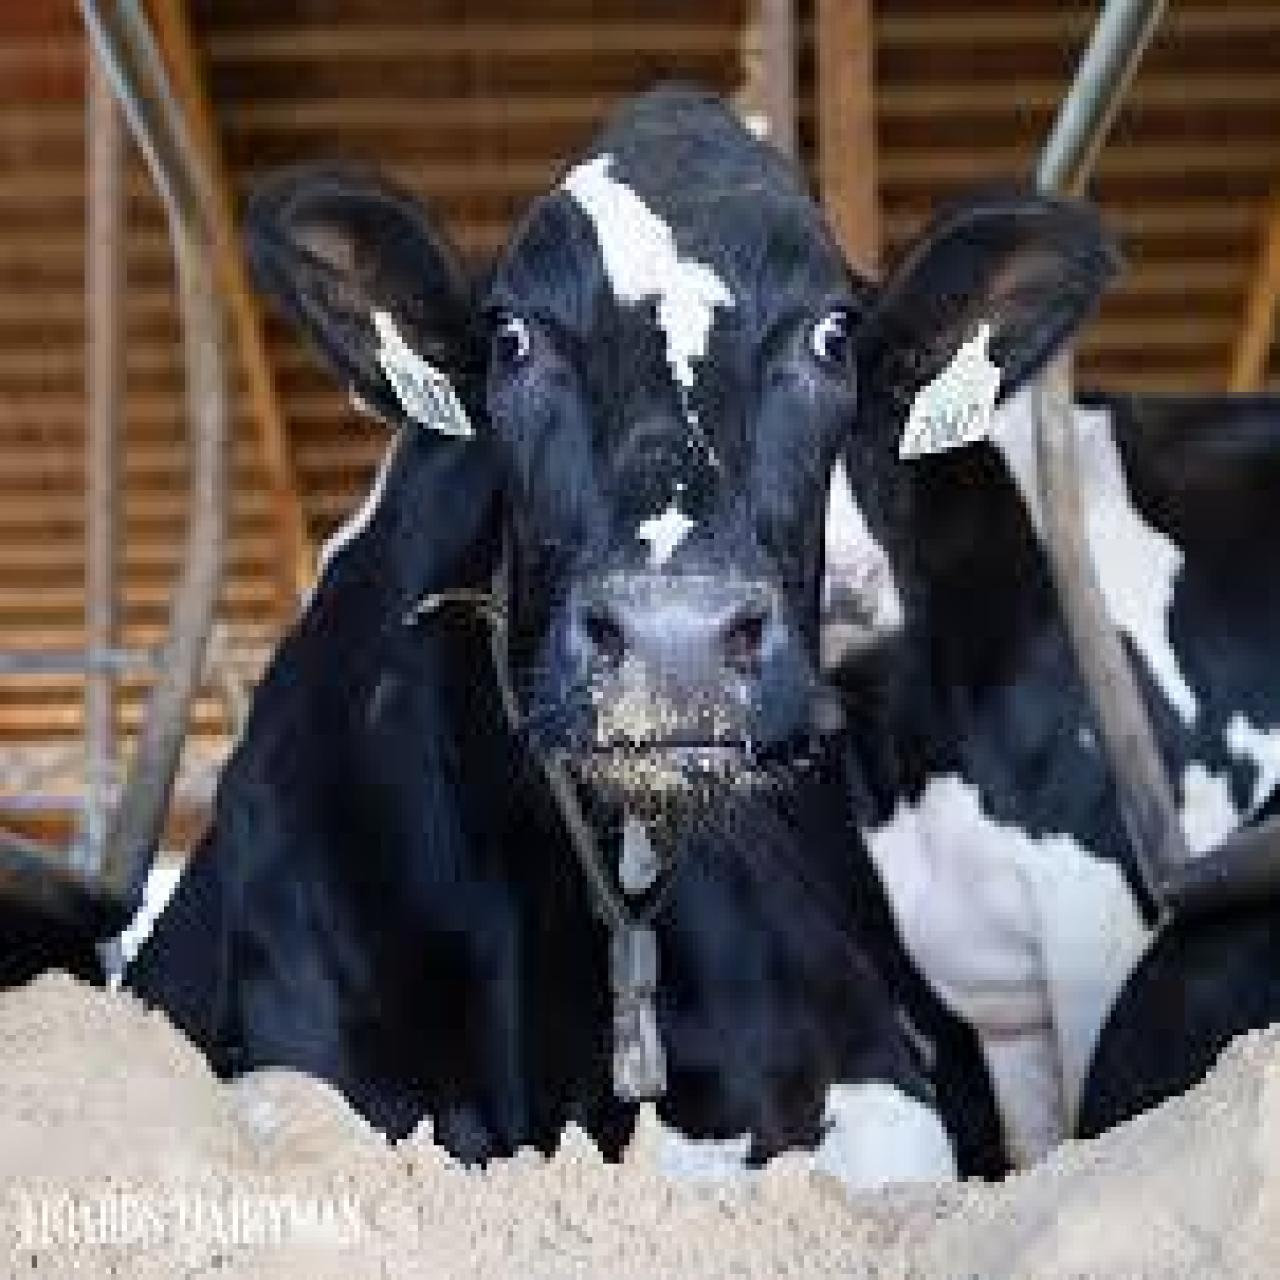cow: (116, 80, 1122, 1189), (821, 374, 1280, 1139)
